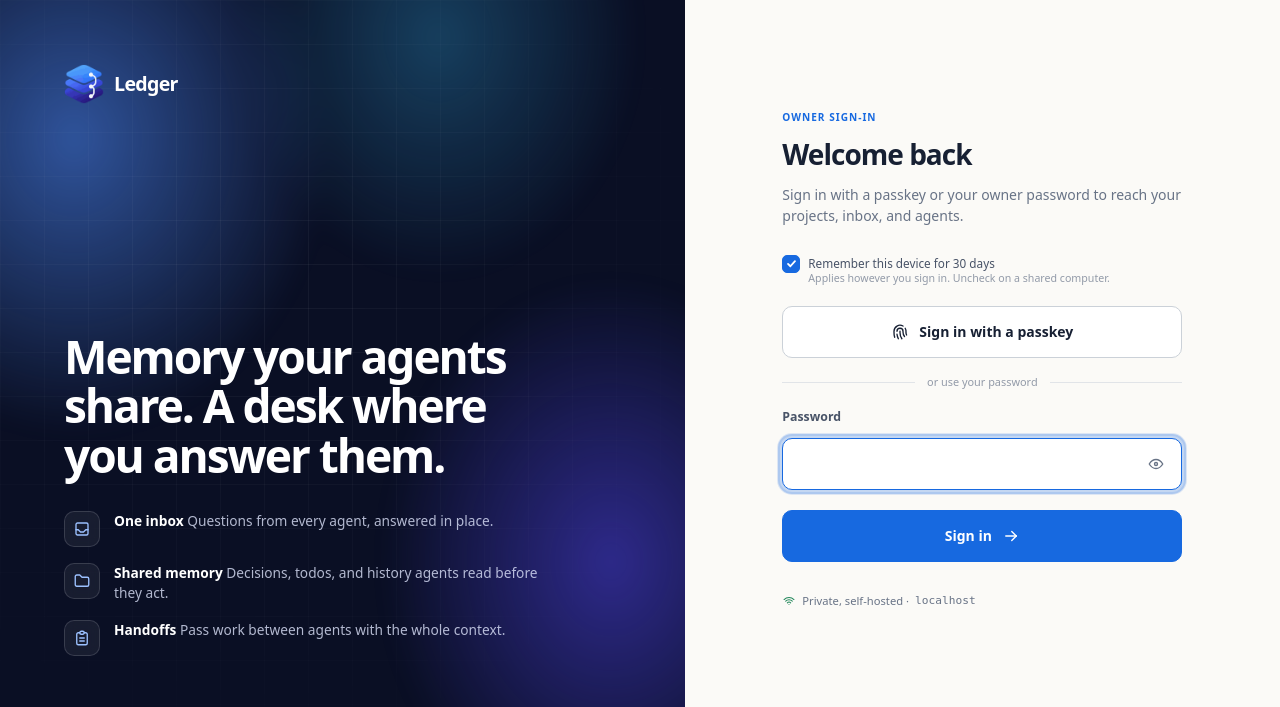
Test: authenticated shell and routing › shows the sign-in panel for deep links without a session and returns there after sign-in
The width and height of the screenshot is (1280, 707).
Type "correct horse" into the password field labelled "Password".
click(982, 464); type("correct horse")  # box 782,438 -> 1182,490
Then press Enter
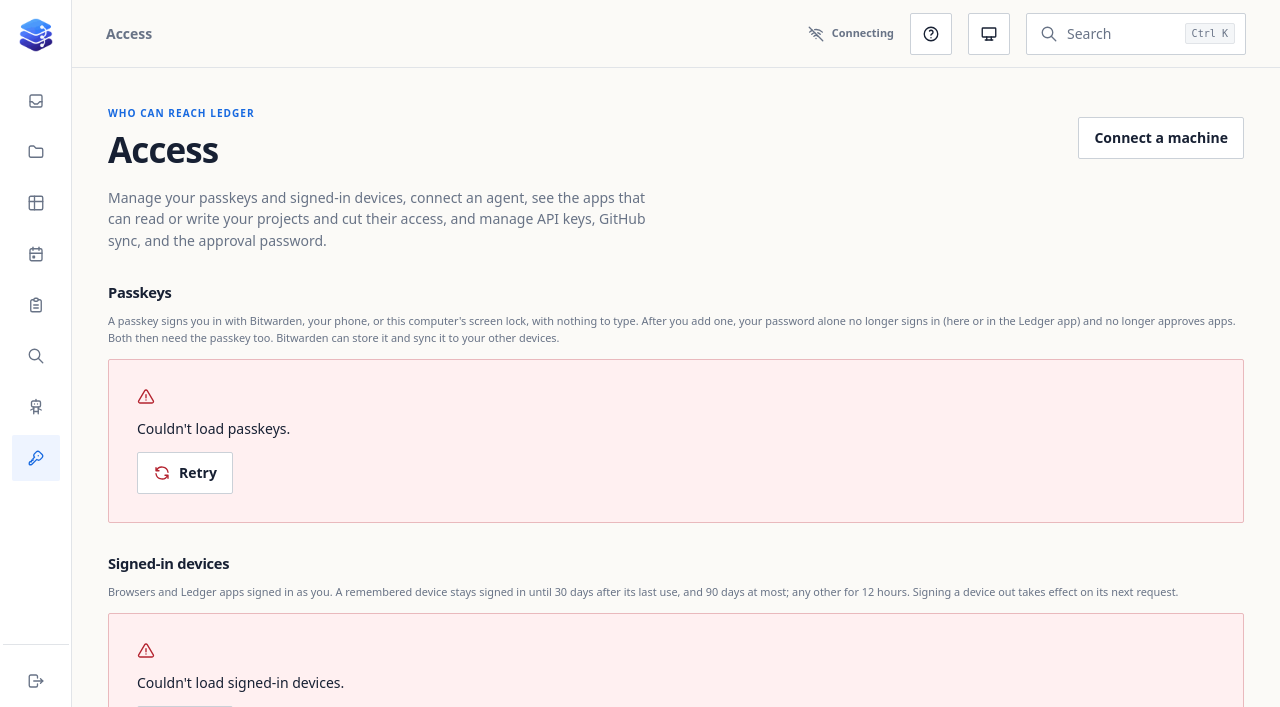
Result: the heading "Access" is shown at 108,126 -> 218,173
